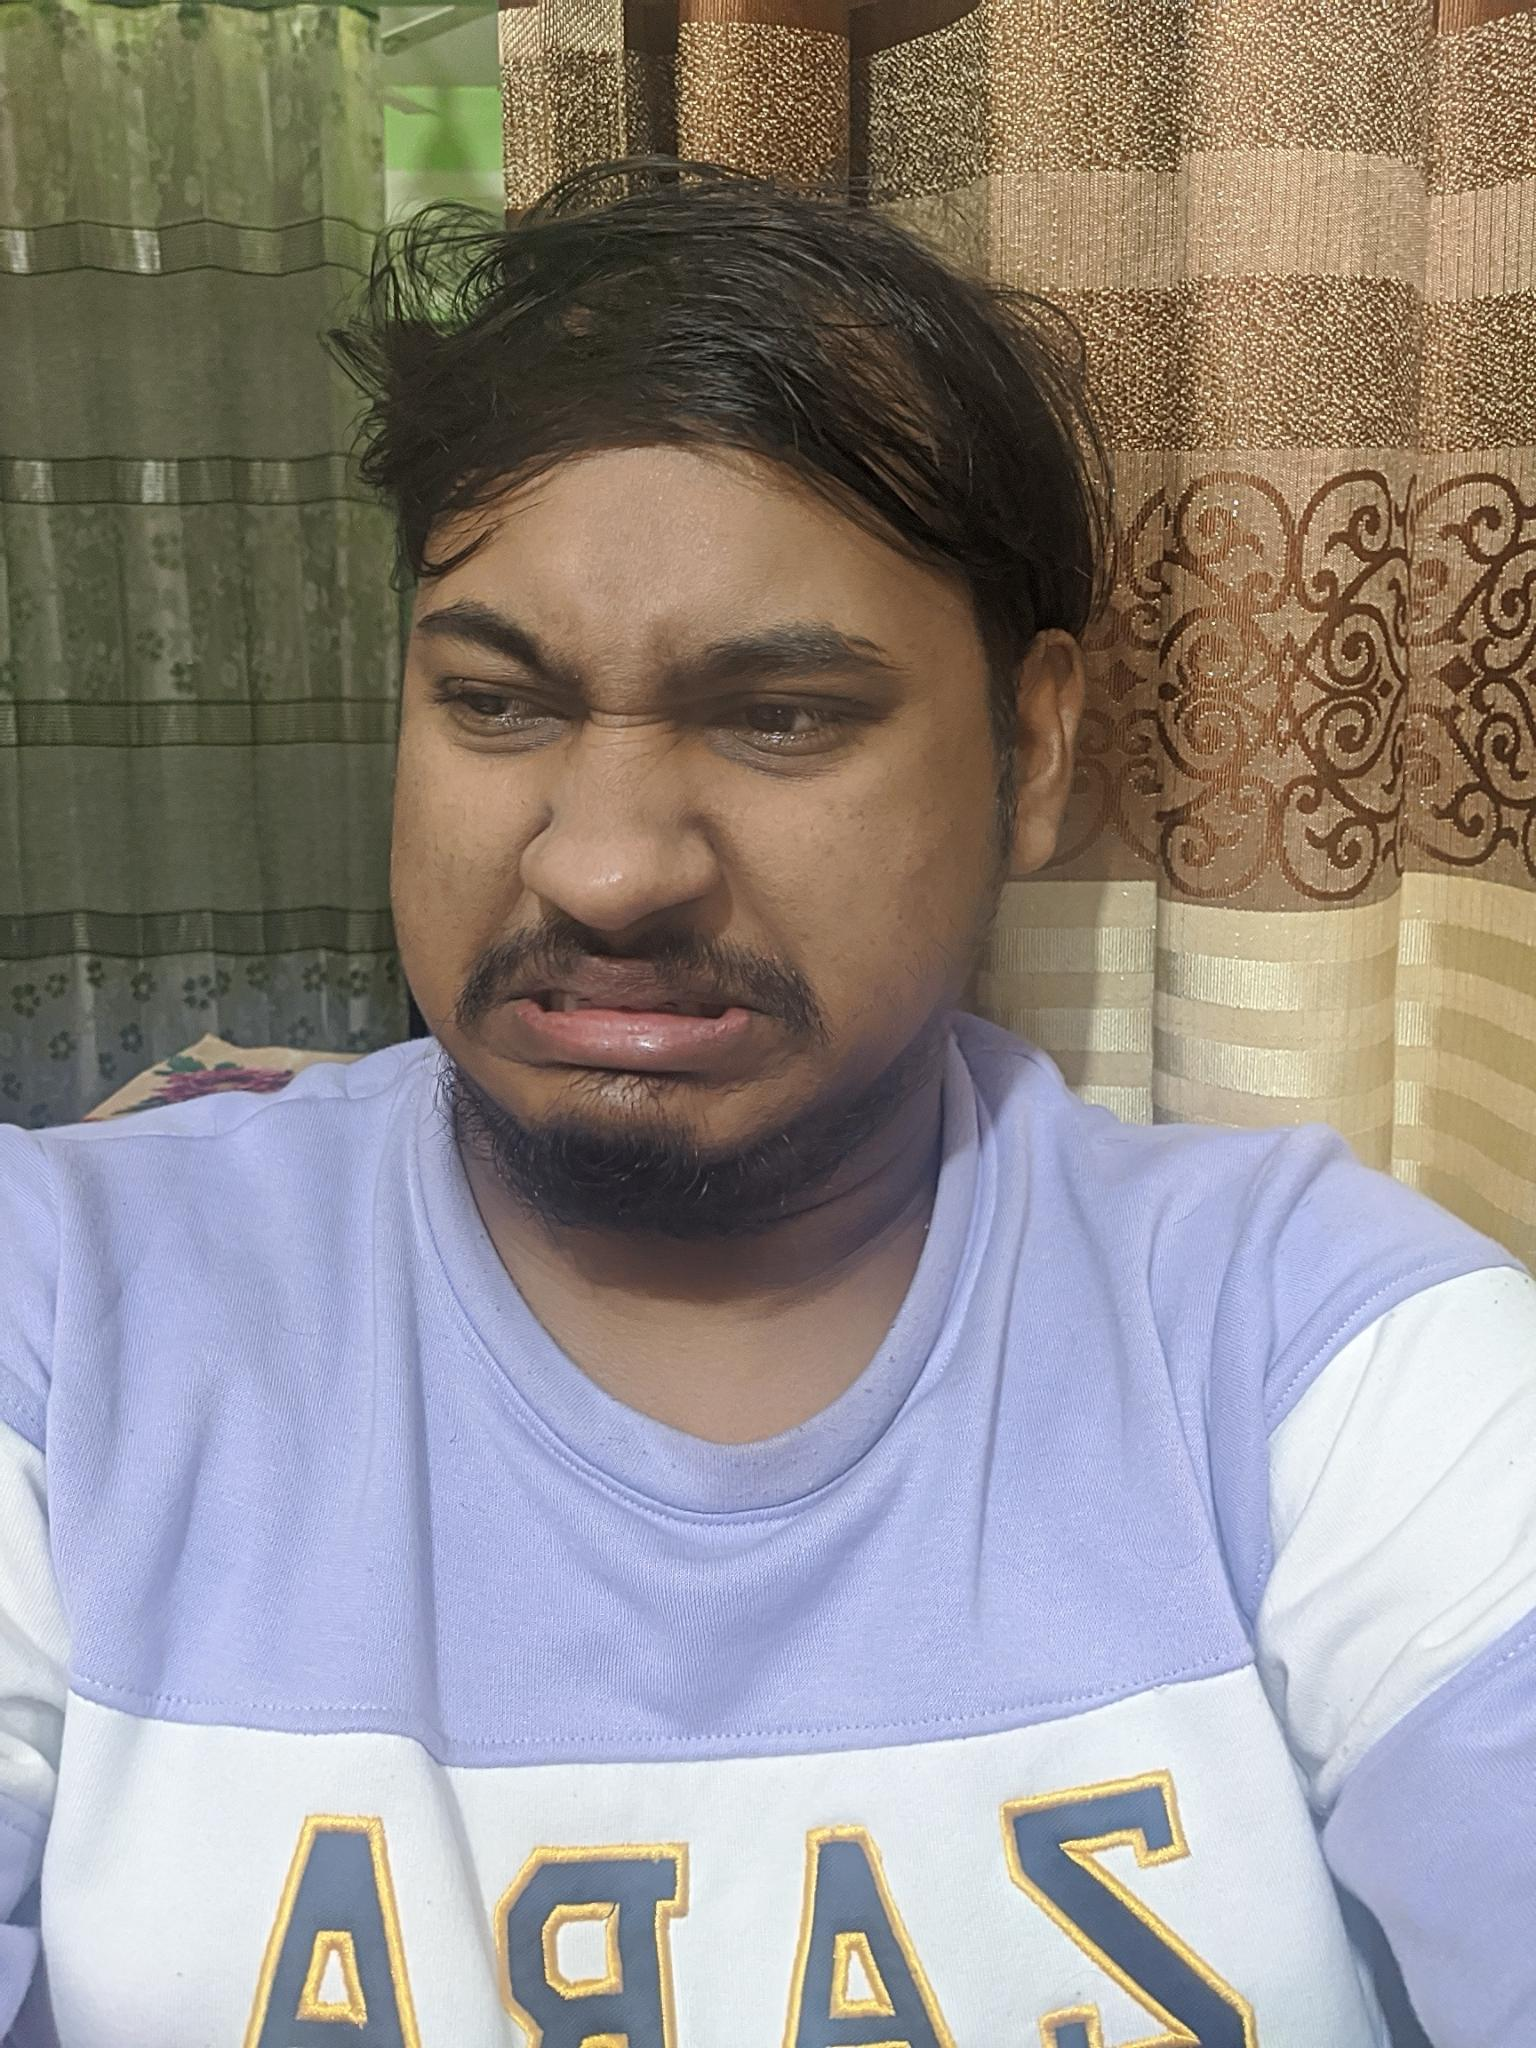Disgust: (352, 521, 955, 1197)
